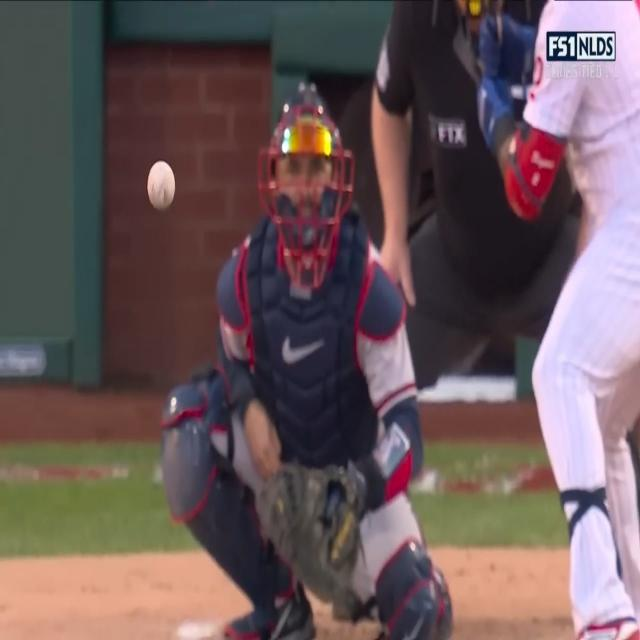baseball: (147, 160, 175, 210)
